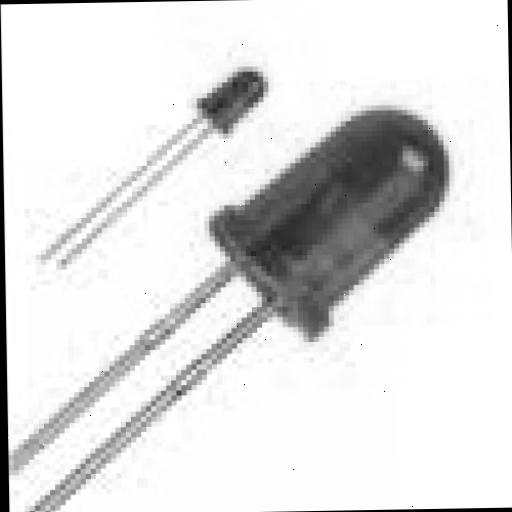LED: (54, 86, 478, 476), (31, 46, 303, 244)
